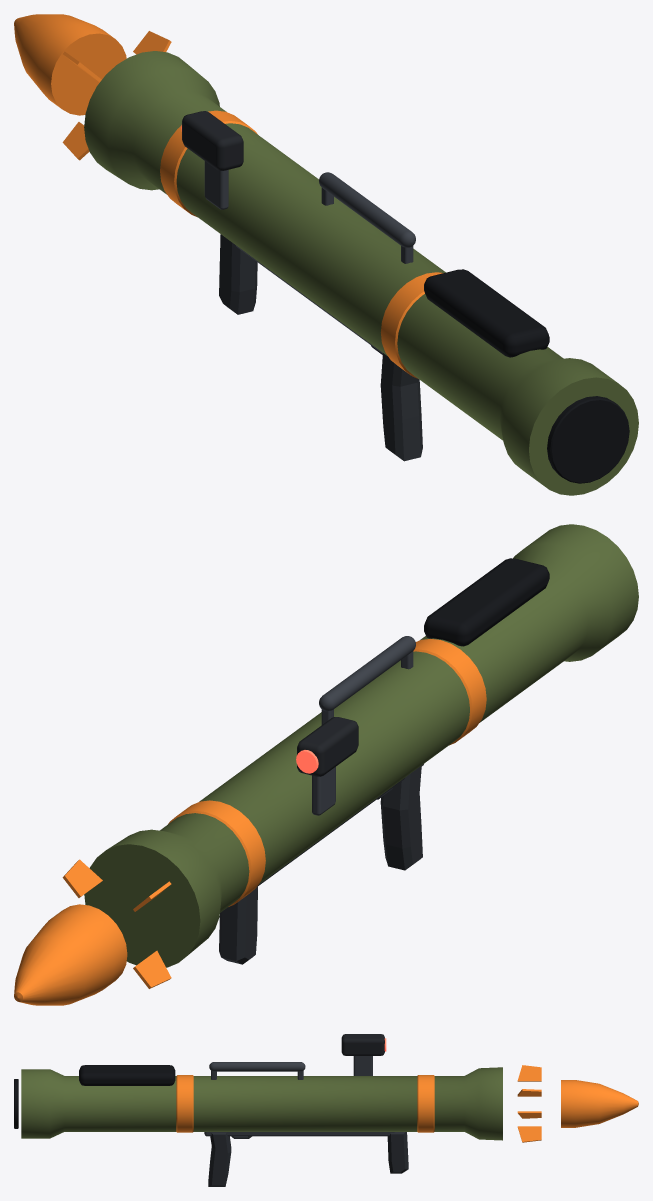
Rendered from launcher.glb.
3 views of the same model, one above another, from view 1: azimuth 30°, elevation 25°; view 2: azimuth 150°, elevation 25°; view 3: azimuth 270°, elevation 25° (orthographic). The views are drawn at different scales.
Visible parts, largest first — view 1: tube, warhead, shoulder_pad, tube_rear_dark, grip, sight_box, front_grip, carry_handle, band_r, band_f, sight_arm; view 2: tube, warhead, shoulder_pad, grip, front_grip, band_f, sight_box, band_r, carry_handle, sight_arm, warhead_fin_1, warhead_fin_3; view 3: tube, warhead, shoulder_pad, grip, band_f, band_r, sight_box, carry_handle, grip_rail, front_grip, sight_arm, warhead_fin_0 (+2 smaller).
Part boxes in pixels (x1,y1,x2,y2): tube: (84, 51, 638, 495); warhead: (14, 14, 126, 115); shoulder_pad: (424, 269, 549, 357); tube_rear_dark: (547, 396, 629, 483); grip: (380, 353, 422, 461); sight_box: (182, 111, 243, 170); front_grip: (219, 234, 257, 314); carry_handle: (319, 172, 415, 247); band_r: (380, 272, 443, 378); band_f: (160, 110, 257, 217); sight_arm: (204, 161, 228, 209); tube: (84, 524, 638, 967); warhead: (14, 904, 127, 1005); shoulder_pad: (424, 558, 549, 646); grip: (380, 765, 422, 870); front_grip: (219, 886, 257, 964); band_f: (168, 800, 265, 906); sight_box: (297, 717, 358, 776); band_r: (413, 638, 486, 745); carry_handle: (319, 636, 415, 711); sight_arm: (312, 767, 335, 815); warhead_fin_1: (133, 950, 171, 988); warhead_fin_3: (62, 859, 102, 897); tube: (21, 1067, 502, 1140); warhead: (561, 1080, 638, 1127); shoulder_pad: (79, 1065, 175, 1085); grip: (208, 1132, 231, 1186); band_f: (417, 1075, 434, 1132); band_r: (176, 1075, 193, 1132); sight_box: (341, 1034, 384, 1055); carry_handle: (209, 1062, 305, 1071); grip_rail: (204, 1132, 395, 1136); front_grip: (387, 1132, 408, 1173); sight_arm: (353, 1056, 372, 1075); warhead_fin_0: (517, 1065, 541, 1081).
Bounding box in the file's own units: 0.169 × 0.305 × 1.3.
